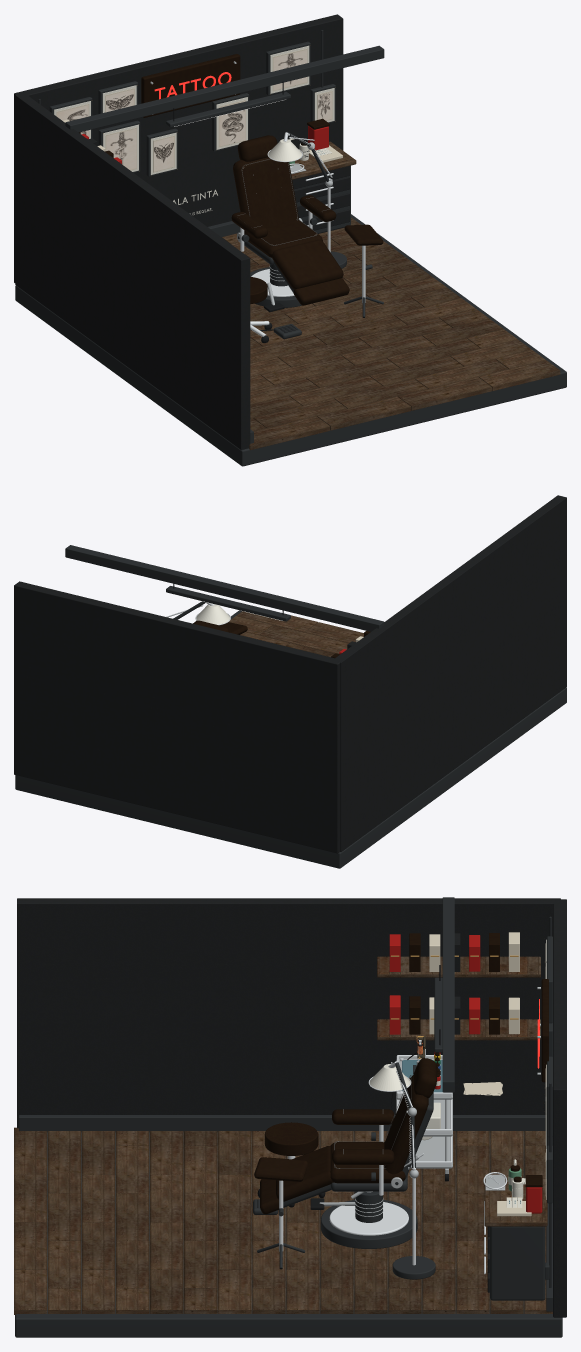
Rendered from studio.glb.
3 views of the same model, one above another, from view 1: azimuth 30°, elevation 25°; view 2: azimuth 150°, elevation 25°; view 3: azimuth 270°, elevation 25° (orthographic). The views are drawn at different scales.
Parts seen in each view (by area): view 1: Charcoal limewash — studio details, Powder coated iron — studio details, Ink black leather — studio details, Aged oak 2 — studio details, Aged oak 0 — studio details, Aged oak 5 — studio details, Aged oak 1 — studio details, Aged oak 3 — studio details, Aged oak 4 — studio details, Original engraved flash illustrations — studio details, Aged oak 6 — studio details, Warm ivory — studio details (+2 smaller); view 2: Charcoal limewash — studio details, Powder coated iron — studio details, Aged oak 5 — studio details, Aged oak 3 — studio details, Aged oak 6 — studio details, Warm ivory — studio details; view 3: Charcoal limewash — studio details, Powder coated iron — studio details, Aged oak 0 — studio details, Aged oak 2 — studio details, Ink black leather — studio details, Aged oak 5 — studio details, Aged oak 1 — studio details, Aged oak 3 — studio details, Aged oak 6 — studio details, Aged oak 4 — studio details, Polished chrome — studio details, Warm flash paper — studio details (+3 smaller).
Part boxes in pixels (x1=…): Charcoal limewash — studio details: x1=14, y1=14, x2=349, y2=449; Powder coated iron — studio details: x1=15, y1=30, x2=566, y2=466; Ink black leather — studio details: x1=79, y1=54, x2=383, y2=305; Aged oak 2 — studio details: x1=231, y1=242, x2=489, y2=450; Aged oak 0 — studio details: x1=250, y1=241, x2=503, y2=418; Aged oak 5 — studio details: x1=250, y1=295, x2=545, y2=404; Aged oak 1 — studio details: x1=253, y1=255, x2=463, y2=428; Aged oak 3 — studio details: x1=222, y1=217, x2=491, y2=410; Aged oak 4 — studio details: x1=289, y1=141, x2=446, y2=405; Original engraved flash illustrations — studio details: x1=57, y1=50, x2=332, y2=171; Aged oak 6 — studio details: x1=250, y1=298, x2=560, y2=391; Warm ivory — studio details: x1=54, y1=45, x2=334, y2=215; Charcoal limewash — studio details: x1=14, y1=495, x2=566, y2=853; Powder coated iron — studio details: x1=15, y1=545, x2=566, y2=868; Aged oak 5 — studio details: x1=229, y1=616, x2=348, y2=653; Aged oak 3 — studio details: x1=305, y1=622, x2=363, y2=642; Aged oak 6 — studio details: x1=236, y1=611, x2=317, y2=632; Warm ivory — studio details: x1=196, y1=604, x2=229, y2=624; Charcoal limewash — studio details: x1=17, y1=898, x2=566, y2=1317; Powder coated iron — studio details: x1=15, y1=897, x2=562, y2=1337; Aged oak 0 — studio details: x1=82, y1=1131, x2=487, y2=1313; Aged oak 2 — studio details: x1=14, y1=956, x2=540, y2=1313; Ink black leather — studio details: x1=254, y1=933, x2=548, y2=1214; Aged oak 5 — studio details: x1=48, y1=1131, x2=552, y2=1313; Aged oak 1 — studio details: x1=48, y1=1131, x2=545, y2=1313; Aged oak 3 — studio details: x1=14, y1=1131, x2=546, y2=1313; Aged oak 6 — studio details: x1=14, y1=1131, x2=523, y2=1314; Aged oak 4 — studio details: x1=82, y1=1131, x2=547, y2=1313; Polished chrome — studio details: x1=279, y1=1039, x2=507, y2=1274; Warm flash paper — studio details: x1=429, y1=932, x2=545, y2=1216.
Size of the model in its own units: 5.25 by 3.23 by 6.4.
29 materials, 10 textured.
